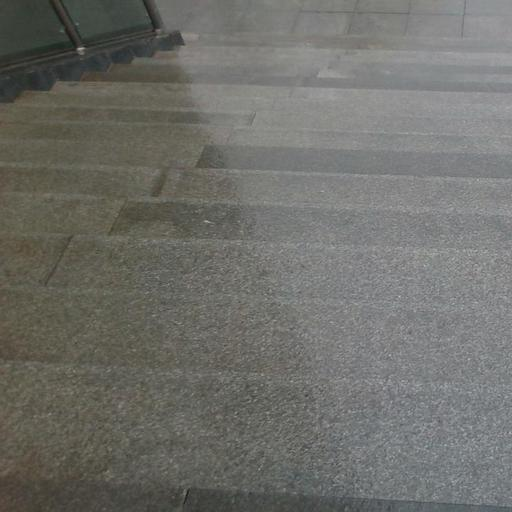stairs: (0, 34, 511, 511)
